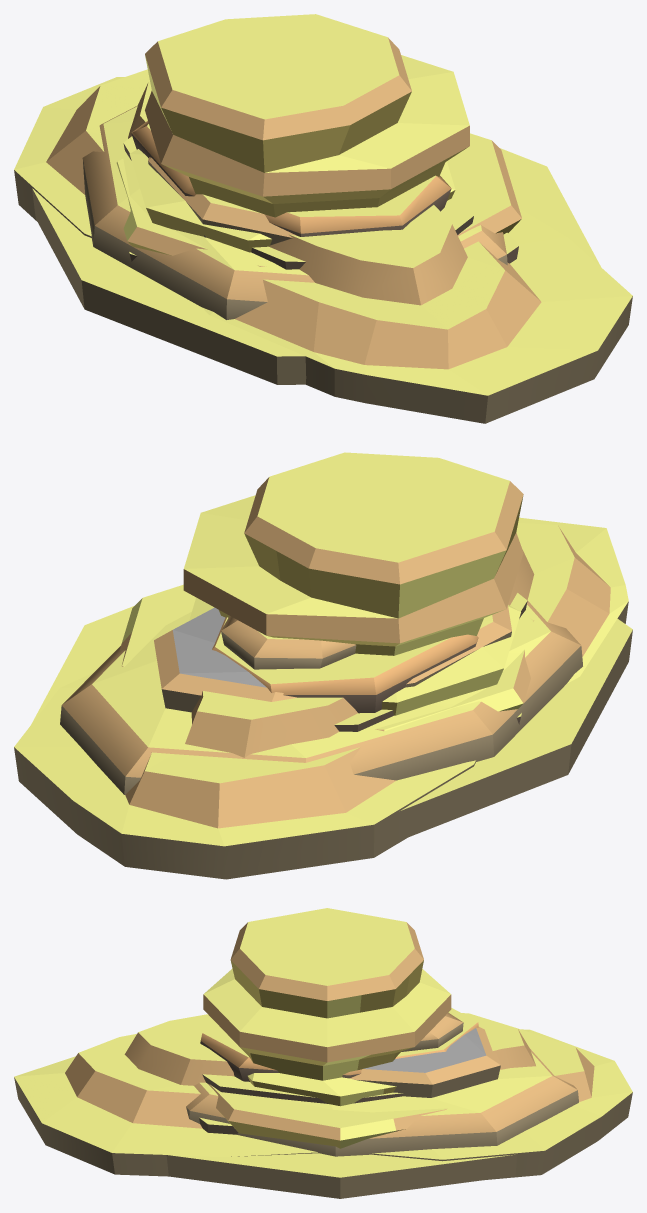
File: RockShelf01.fbx
3 renders of one model, top to bottom at view 1: azimuth 30°, elevation 25°; view 2: azimuth 150°, elevation 25°; view 3: azimuth 270°, elevation 25°, orthographic. The views are drawn at different scales.
Parts seen in each view (by area): view 1: Rock_Shelf6, Rock_Shelf4, Rock_Shelf5, Rock_Shelf2; view 2: Rock_Shelf4, Rock_Shelf6, Rock_Shelf5, Rock_Shelf2; view 3: Rock_Shelf4, Rock_Shelf6, Rock_Shelf5, Rock_Shelf2.
Part boxes in pixels (x1,y1,x2,y2): Rock_Shelf6: (14,69,632,423); Rock_Shelf4: (116,14,521,266); Rock_Shelf5: (32,105,600,384); Rock_Shelf2: (123,121,518,269); Rock_Shelf4: (119,452,533,731); Rock_Shelf6: (14,517,628,879); Rock_Shelf5: (31,601,632,840); Rock_Shelf2: (212,593,527,731); Rock_Shelf4: (203,908,451,1148); Rock_Shelf6: (14,1013,632,1179); Rock_Shelf5: (166,1012,578,1198); Rock_Shelf2: (199,1008,478,1134).
Bounding box in the file's own units: 8258 × 3538 × 12825.
